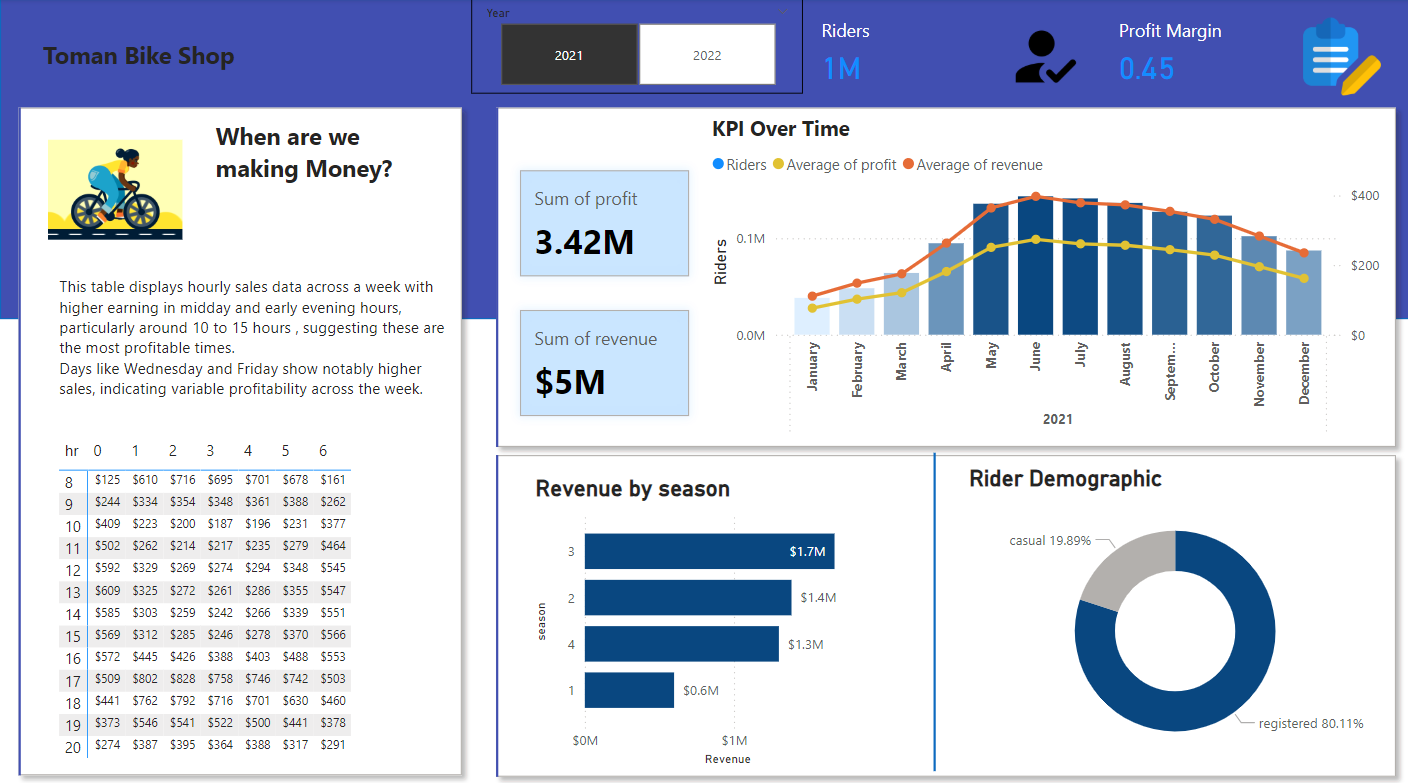

What the dashboard file says about the page in this screenshot:
{"tool":"powerbi","page":{"name":"Page 1","canvas":[1280,720],"ordinal":0},"visuals":[{"type":"shape","box":[0,0,1280.3,289.5],"z":0},{"type":"cardVisual","fields":{"Data":["Min(Query1.rider_type)"]},"box":[0,81.4,435.7,638.6],"z":1000},{"type":"cardVisual","fields":{"Data":["Min(Query1.rider_type)"]},"box":[431.4,81.4,848.6,341.4],"z":2000},{"type":"cardVisual","fields":{"Data":["Min(Query1.rider_type)"]},"box":[432.2,395.2,848,325.2],"z":3000},{"type":"pivotTable","fields":{"Values":["Avg(Query1.revenue)"],"Columns":["Query1.weekday"],"Rows":["Query1.hr"]},"box":[48.6,392.9,338.6,305.7],"z":4000},{"type":"textbox","box":[190,104.3,214.3,110],"z":5000},{"type":"textbox","box":[48.6,245.7,364.3,150],"z":6000},{"type":"lineClusteredColumnComboChart","title":"KPI Over Time","fields":{"Category":["Query1.dteday.Variation.Date Hierarchy.Year","Query1.dteday.Variation.Date Hierarchy.Month","Query1.dteday.Variation.Date Hierarchy.Day"],"Y":["Sum(Query1.riders)"],"Y2":["Avg(Query1.profit)","Avg(Query1.revenue)"]},"box":[638.6,104.3,614.3,298.6],"z":7000},{"type":"cardVisual","fields":{"Data":["Min(Query1.rider_type)"]},"box":[22.9,95.7,167.1,157.1],"z":8000},{"type":"clusteredBarChart","fields":{"Category":["Query1.season"],"Y":["Sum(Query1.revenue)"]},"box":[478.9,430.9,330.7,267.6],"z":9000},{"type":"donutChart","title":"Rider Demographic","fields":{"Category":["Query1.rider_type"],"Y":["Sum(Query1.riders)"]},"box":[871.4,421.3,382.8,277.2],"z":10000},{"type":"shape","box":[834.3,410.3,22,288.2],"z":11000},{"type":"cardVisual","fields":{"Data":["Sum(Query1.profit)","Sum(Query1.revenue)"]},"box":[454.3,138.6,185.7,254.3],"z":12000},{"type":"cardVisual","fields":{"Data":["Sum(Query1.riders)","Query1.Profit Margin"]},"box":[725.7,0,540,95.7],"z":13000},{"type":"textbox","box":[34.3,30,197.1,38.6],"z":13001},{"type":"slicer","fields":{"Values":["Query1.Year"]},"box":[425.7,0,300,85.7],"z":13002}]}

Visuals, with their boxes in screenshot pixels (x1, y1, x2, y2), scaled from the page's 1280x720 canvas onto the 1408x783 screenshot:
shape: left=0, top=0, right=1407, bottom=315
cardVisual - Min(Query1.rider_type): left=0, top=89, right=479, bottom=782
cardVisual - Min(Query1.rider_type): left=475, top=89, right=1407, bottom=460
cardVisual - Min(Query1.rider_type): left=475, top=430, right=1407, bottom=782
pivotTable - Avg(Query1.revenue) x Query1.weekday: left=53, top=427, right=426, bottom=760
textbox: left=209, top=113, right=445, bottom=233
textbox: left=53, top=267, right=454, bottom=430
"KPI Over Time" lineClusteredColumnComboChart: left=702, top=113, right=1378, bottom=438
cardVisual - Min(Query1.rider_type): left=25, top=104, right=209, bottom=275
clusteredBarChart - Query1.season x Sum(Query1.revenue): left=527, top=469, right=891, bottom=760
"Rider Demographic" donutChart: left=959, top=458, right=1380, bottom=760
shape: left=918, top=446, right=942, bottom=760
cardVisual - Sum(Query1.profit) x Sum(Query1.revenue): left=500, top=151, right=704, bottom=427
cardVisual - Sum(Query1.riders) x Query1.Profit Margin: left=798, top=0, right=1392, bottom=104
textbox: left=38, top=33, right=255, bottom=75
slicer - Query1.Year: left=468, top=0, right=798, bottom=93
